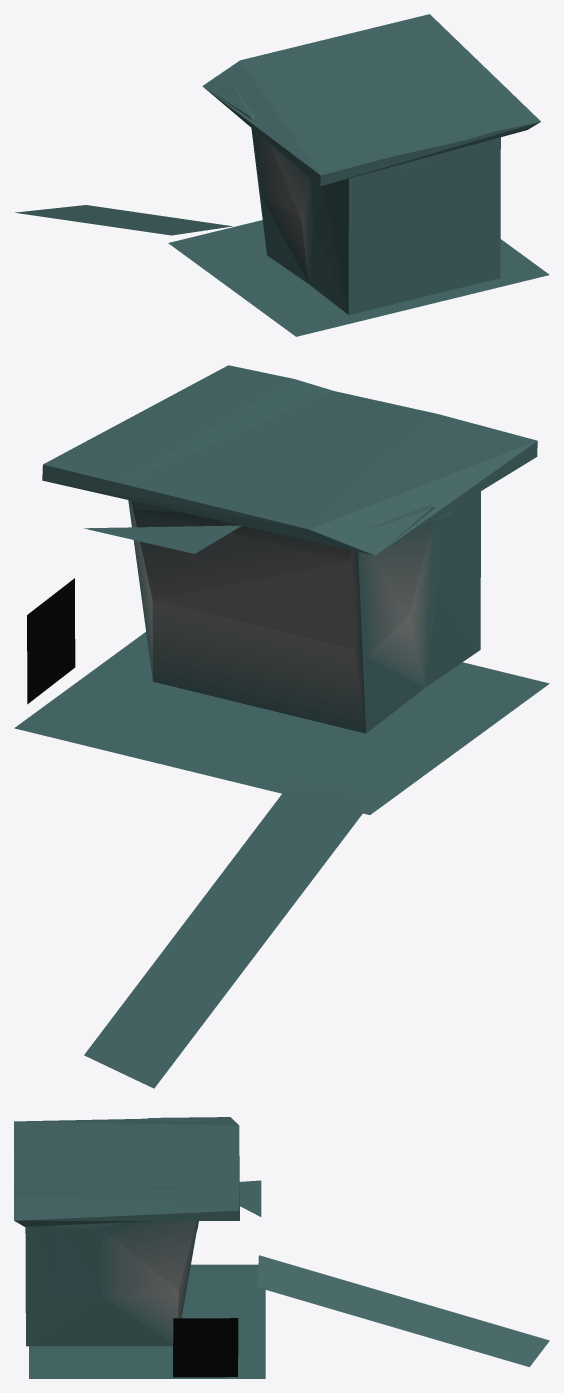
The model's file is lifeguard-hut.lod2.glb.
The picture shows the model from 3 angles, top to bottom: view 1: azimuth 30°, elevation 25°; view 2: azimuth 150°, elevation 25°; view 3: azimuth 270°, elevation 25°; orthographic projection. The views are drawn at different scales.
Visible parts, largest first — view 1: Object_5; view 2: Object_5; view 3: Object_5.
Boxes of the visible parts, x1,y1,x2,y2 form: Object_5: [15, 14, 549, 336]; Object_5: [14, 365, 549, 1088]; Object_5: [14, 1117, 549, 1378].
Size of the model in its own units: 4.38 by 4.2 by 8.46.
